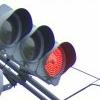traffic lights: (0, 4, 78, 86)
